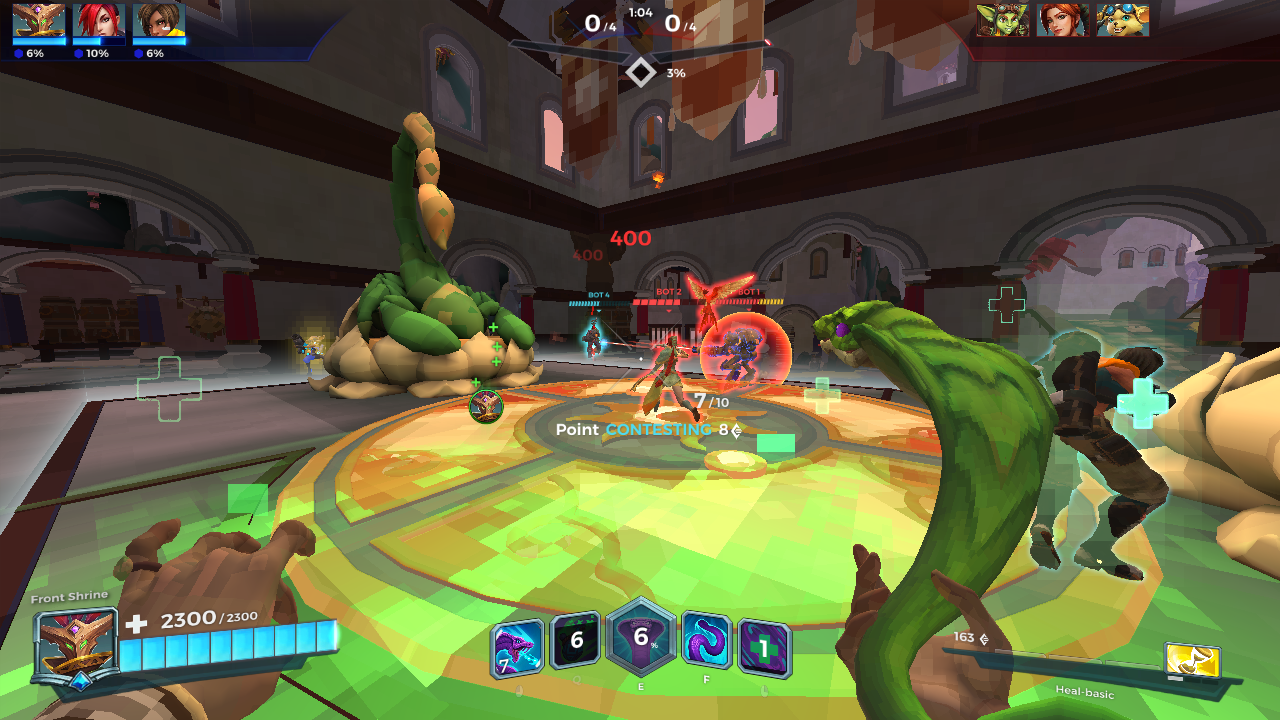model: (710, 314, 764, 400), (653, 326, 701, 420)
